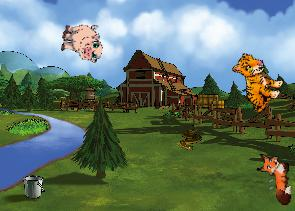fox: (256, 152, 292, 205)
pig: (58, 20, 105, 64)
tiger: (220, 49, 290, 116)
